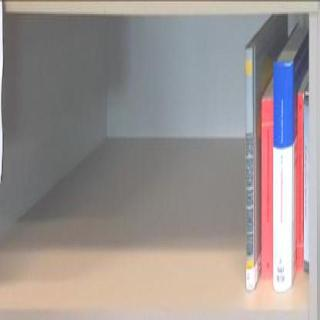book-spine: (273, 60, 293, 293), (244, 47, 255, 289), (261, 98, 274, 279), (297, 91, 304, 269), (303, 91, 309, 271)
